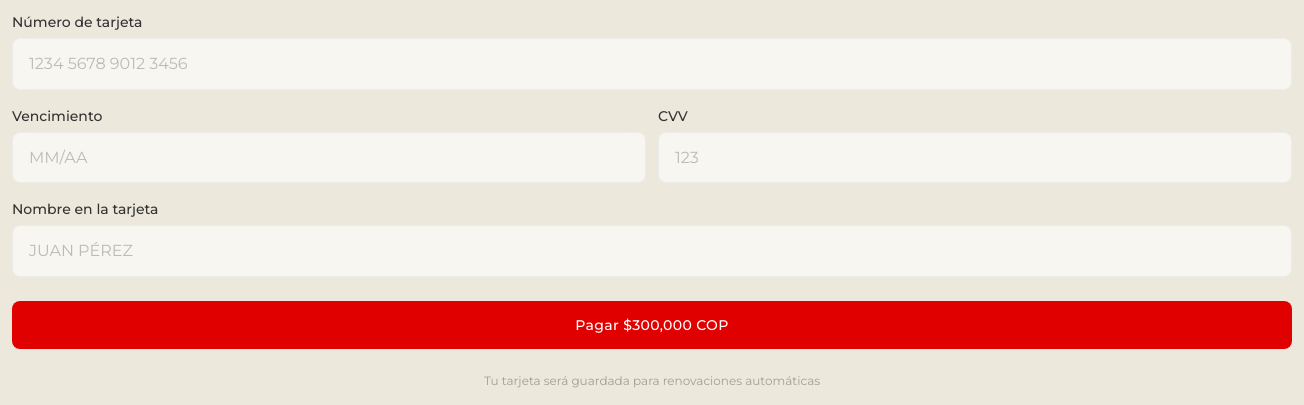
Scenario: CardPaymentForm › limits CVV to 4 digits
Step 1. Type "12345" into the field labelled "CVV" → (975, 157), box [658,132,1292,183]
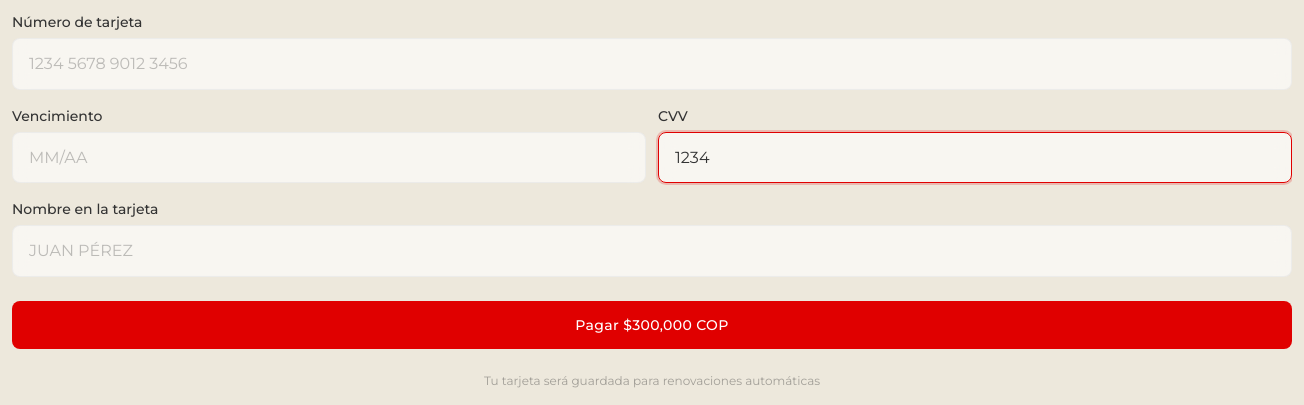
Result: the field labelled "CVV" holds "1234" at [658,132,1292,183]
